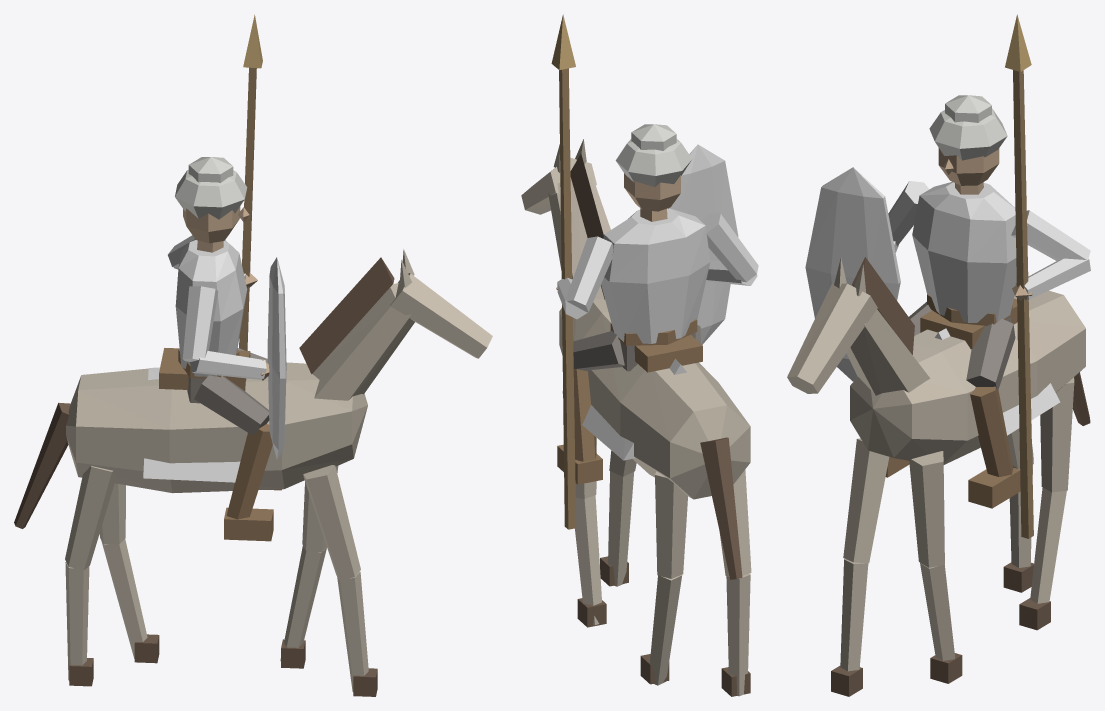
Rendered from mandekalu-cavalry.glb.
The picture shows the model from 3 angles, left to right: view 1: azimuth 30°, elevation 25°; view 2: azimuth 150°, elevation 25°; view 3: azimuth 270°, elevation 25°; orthographic projection. The views are drawn at different scales.
Visible parts, largest first — view 1: LOD0; view 2: LOD0; view 3: LOD0.
Part boxes in pixels (x1,y1,x2,y2): LOD0: [14, 14, 492, 696]; LOD0: [521, 14, 758, 696]; LOD0: [787, 14, 1090, 696].
Size of what is drawn, in the model's own units: 0.9264 by 1.6 by 0.6671.
